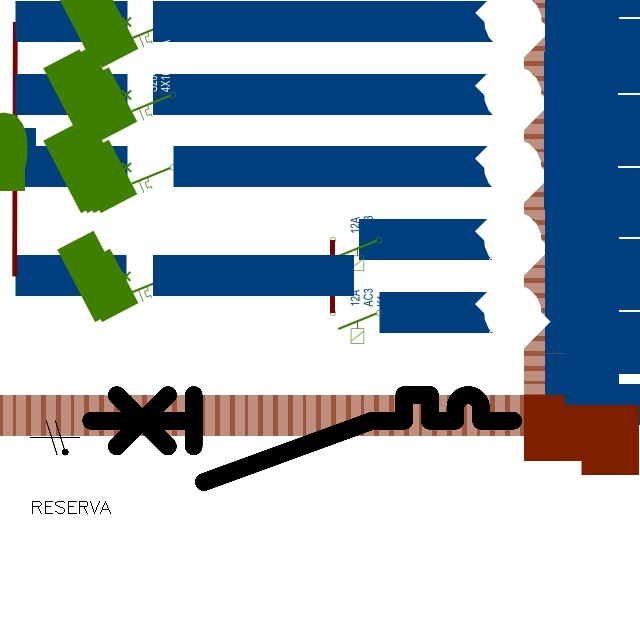interruptor_termomagnetico: (80, 384, 524, 492)
